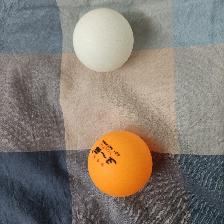WhiteBall: (72, 7, 134, 72)
YellowBall: (87, 129, 152, 196)
